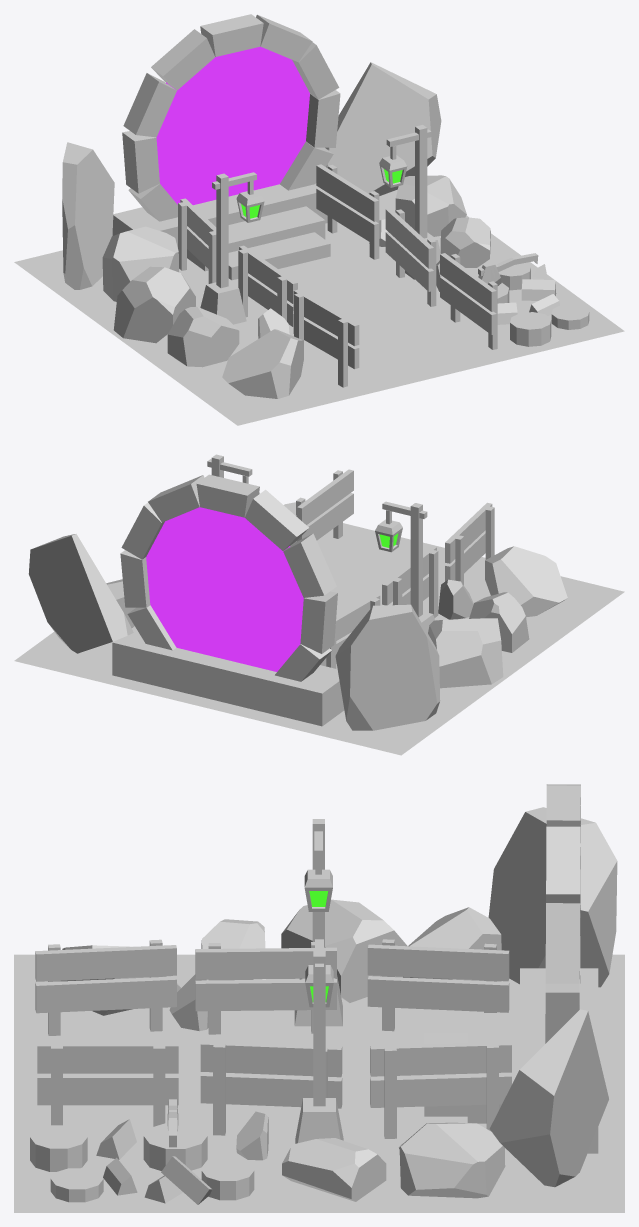
The model's file is portal.glb.
The picture shows the model from 3 angles, top to bottom: view 1: azimuth 30°, elevation 25°; view 2: azimuth 150°, elevation 25°; view 3: azimuth 270°, elevation 25°; orthographic projection. The views are drawn at different scales.
Visible parts, largest first — view 1: baked, portalLight; view 2: baked, portalLight; view 3: baked.
Boxes of the visible parts, left/top/right/bottom form: baked: left=14, top=14, right=624, bottom=425; portalLight: left=156, top=46, right=309, bottom=205; baked: left=14, top=454, right=624, bottom=755; portalLight: left=146, top=507, right=303, bottom=671; baked: left=14, top=784, right=624, bottom=1212.
Size of the model in its own units: 4.13 by 2.04 by 4.
